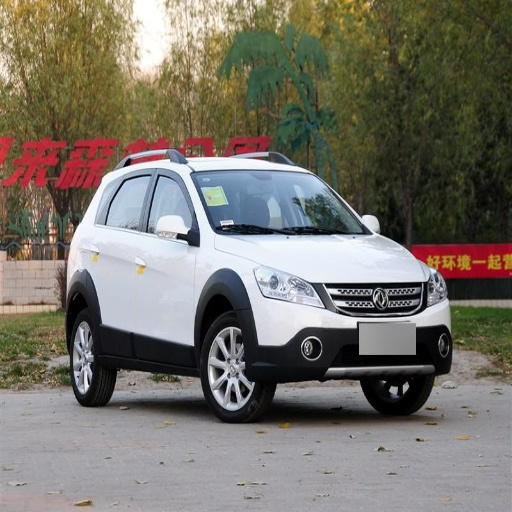front_bumper: (250, 282, 447, 382)
front_right_door: (134, 169, 201, 360)
front_right_light: (256, 266, 323, 307)
hood: (222, 234, 431, 282)
